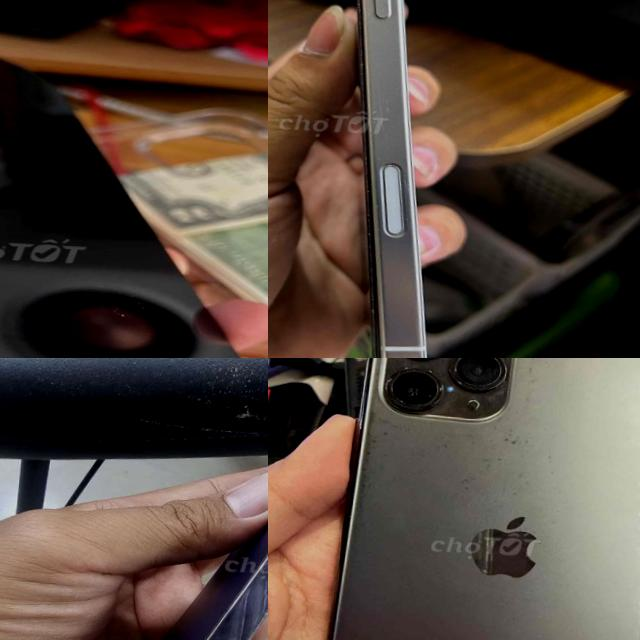gen_11: (328, 358, 640, 640)
gen_14: (0, 0, 268, 358), (74, 358, 268, 640)
gen_16: (357, 0, 427, 358)
